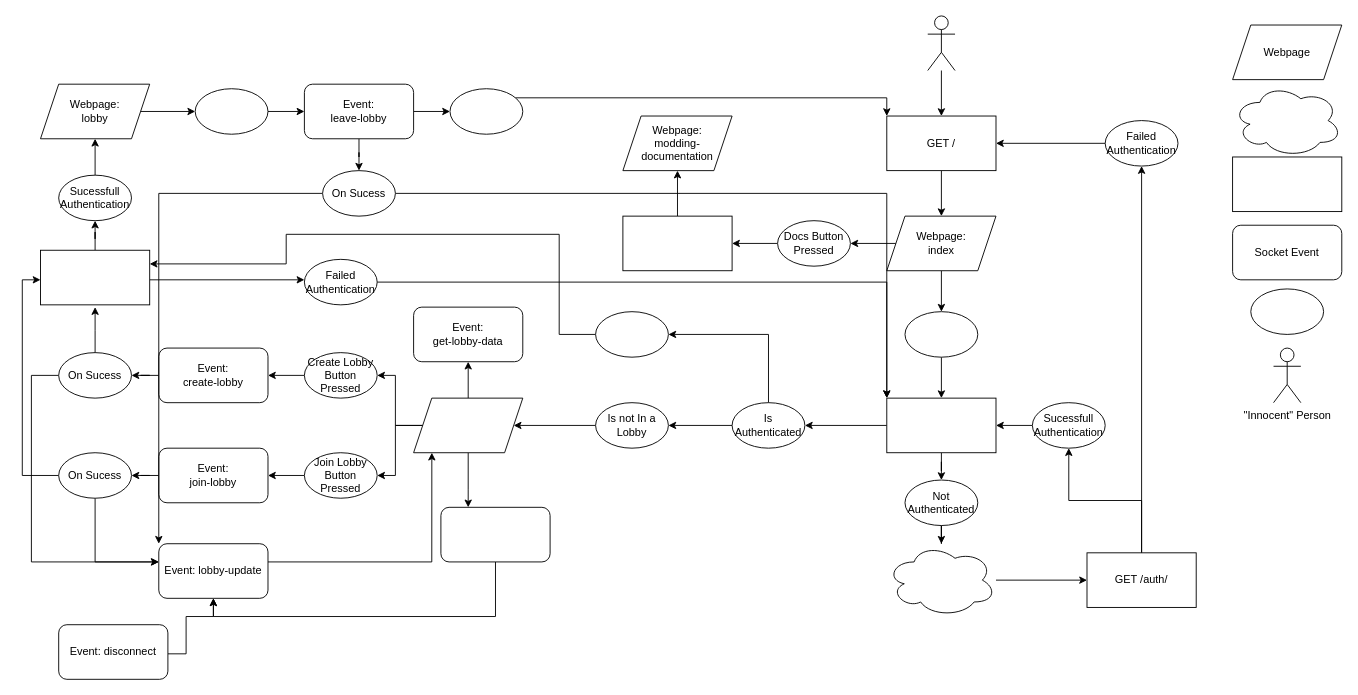
This 1358x695 diagram has some shape labels left out. The shapes that lost their labels are listed below. From the top down, each one's box as (x1, y1, x2, y2) in pixels, then its label:
(927, 15, 955, 71): Jaha
(194, 88, 268, 134): Leave Lobby Button Pressed
(449, 88, 523, 134): On Fail
(1232, 83, 1342, 157): External Service
(1232, 156, 1342, 212): HTML Method
(622, 215, 732, 271): GET /modding-documentation/
(40, 249, 150, 305): GET /lobby/<lobby_id:int>/
(1250, 288, 1324, 334): Action
(595, 311, 668, 357): Is In a Lobby
(904, 311, 978, 357): Lobbies Button Pressed
(413, 397, 523, 453): Webpage: online-lobbies
(886, 397, 996, 453): GET /online-lobbies/
(440, 506, 550, 562): Event: connect
(886, 543, 996, 617): Discord
